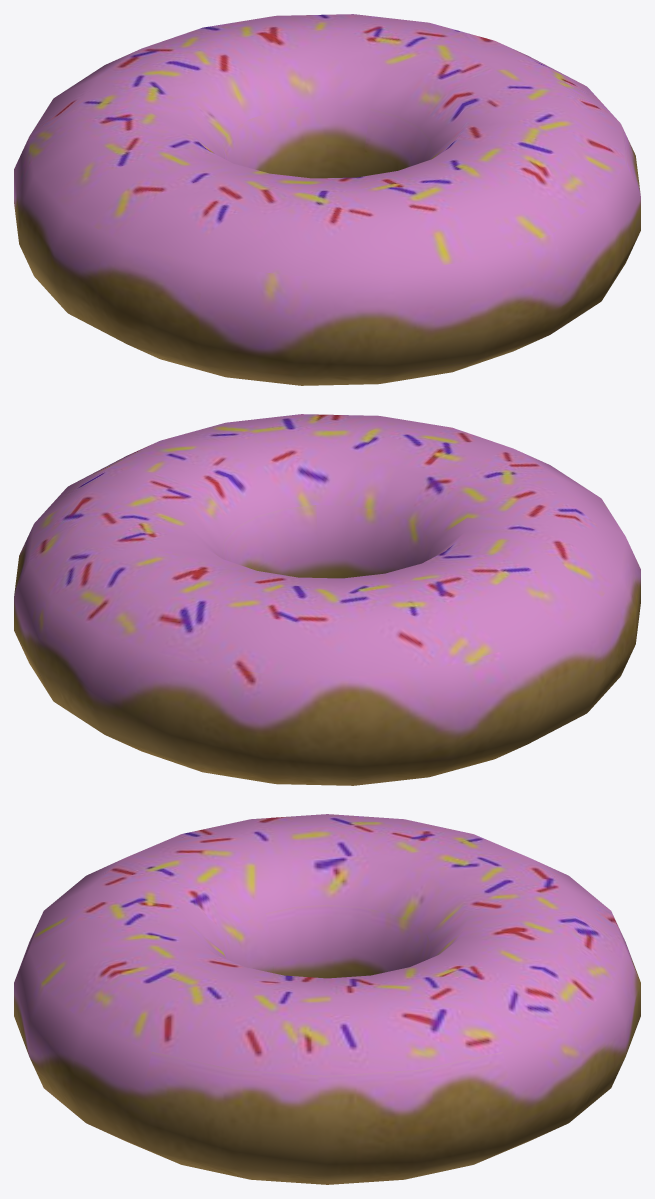
Rendered from pink_donut.glb.
3 views of the same model, one above another, from view 1: azimuth 30°, elevation 25°; view 2: azimuth 150°, elevation 25°; view 3: azimuth 270°, elevation 25° (orthographic).
Visible parts, largest first — view 1: Low_Poly; view 2: Low_Poly; view 3: Low_Poly.
Boxes of the visible parts, <box> form: Low_Poly: <box>14,14,640,385</box>; Low_Poly: <box>14,414,640,785</box>; Low_Poly: <box>14,814,640,1184</box>.
Size of the model in its own units: 2.1 by 0.6358 by 2.1.
Materials: 1 (1 with a texture image).
